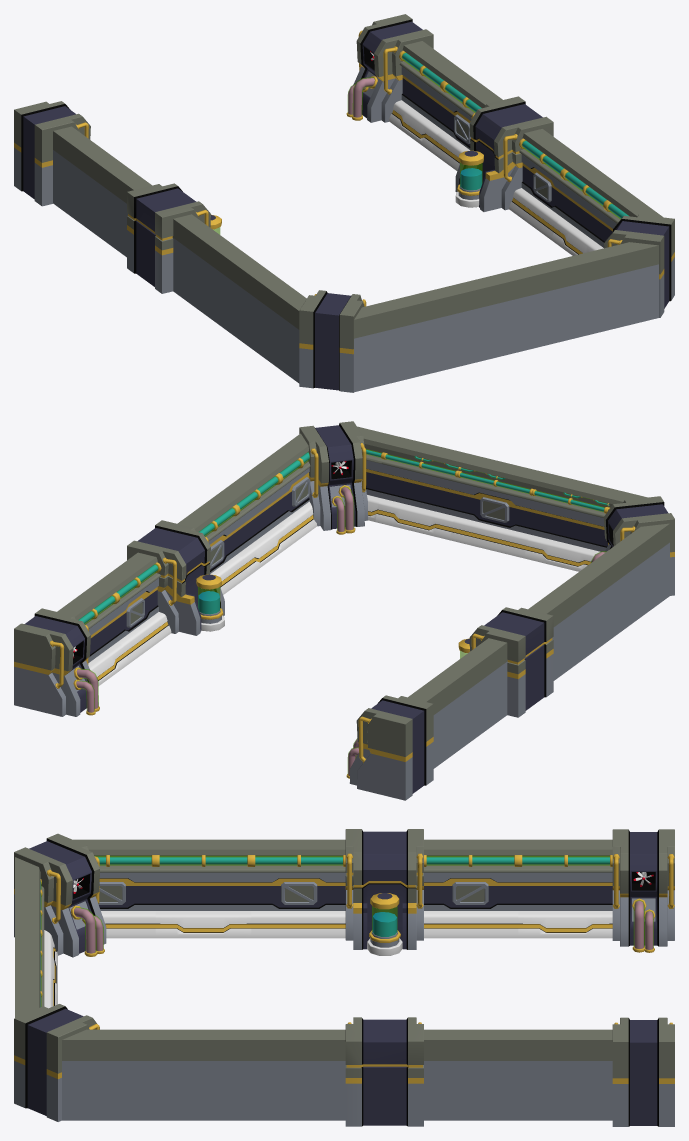
File: Level11.fbx
3 renders of one model, top to bottom at view 1: azimuth 30°, elevation 25°; view 2: azimuth 150°, elevation 25°; view 3: azimuth 270°, elevation 25°, orthographic. The views are drawn at different scales.
Visible parts, largest first — view 1: Base (×21), Bottle, Pipe1; view 2: Base (×20), Bottle, Cage; view 3: Base (×20), Pipe1 (×7), Cage (×3), Bottle.
Part boxes in pixels (box(x1,y1,x2,y2)): Base (×21): box(14, 14, 674, 392); Bottle: box(455, 150, 483, 207); Pipe1: box(351, 76, 377, 120); Base (×20): box(14, 421, 674, 800); Bottle: box(196, 574, 224, 631); Cage: box(480, 497, 509, 522); Base (×20): box(14, 829, 674, 1126); Pipe1 (×7): box(71, 855, 646, 956); Cage (×3): box(98, 882, 488, 904); Bottle: box(367, 893, 402, 955).
Bounding box in the file's own units: 385 × 73.12 × 507.
